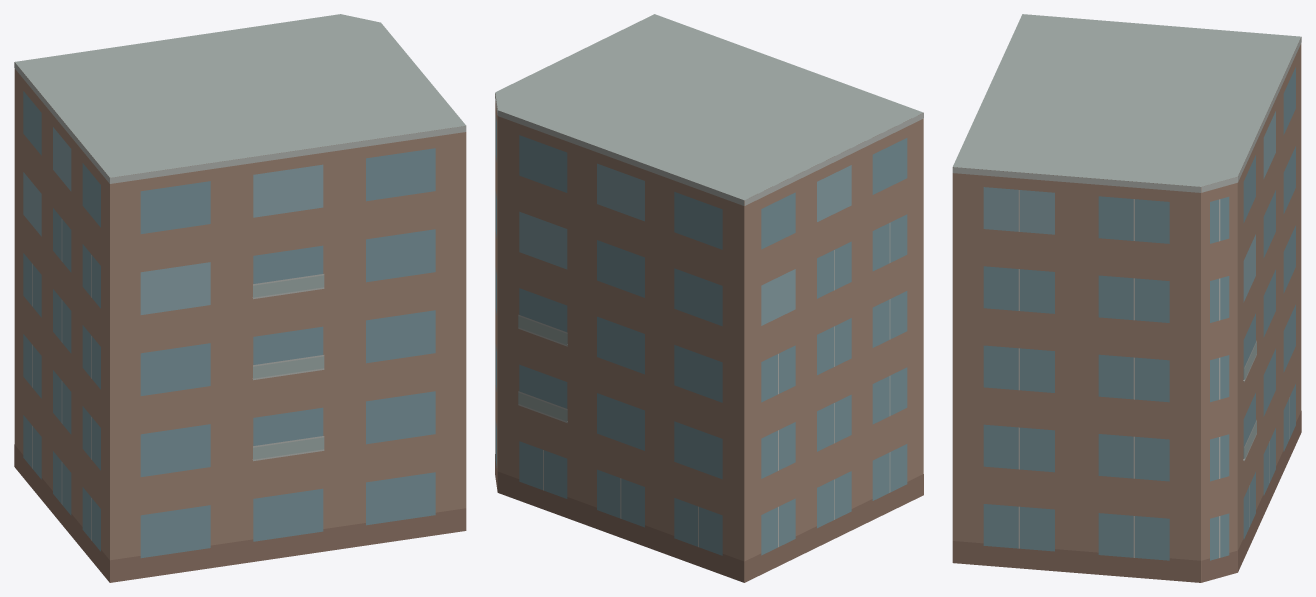
File: survey-upis-32669780.glb
The picture shows the model from 3 angles, left to right: view 1: azimuth 30°, elevation 25°; view 2: azimuth 150°, elevation 25°; view 3: azimuth 270°, elevation 25°; orthographic projection. The views are drawn at different scales.
Parts seen in each view (by area): view 1: survey-upis-32669780.tmp; view 2: survey-upis-32669780.tmp; view 3: survey-upis-32669780.tmp.
Boxes of the visible parts, x1,y1,x2,y2 form: survey-upis-32669780.tmp: [14, 14, 466, 582]; survey-upis-32669780.tmp: [495, 14, 923, 582]; survey-upis-32669780.tmp: [952, 14, 1301, 582].
Size of the model in its own units: 14.95 by 15.95 by 12.74.
